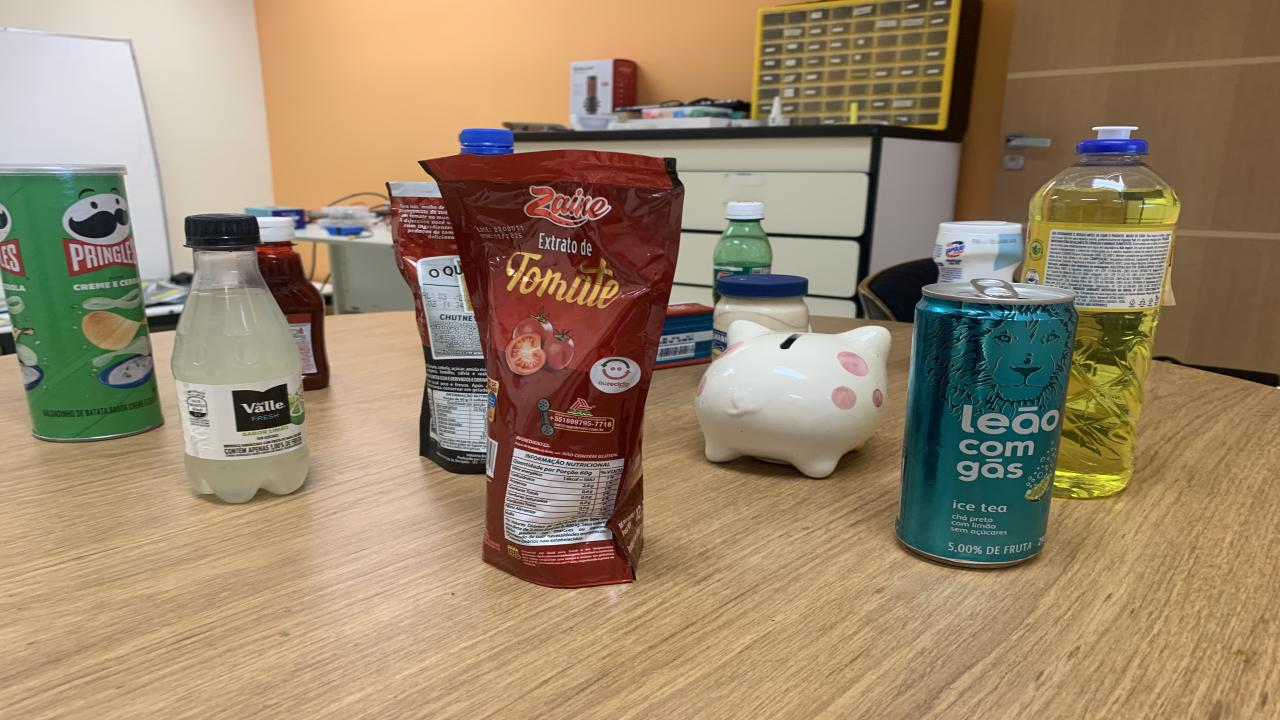Cleaner-Cleanup_Items: (932, 221, 1022, 283)
Detergent-Cleanup_Items: (1022, 128, 1180, 499)
Guarana-Drinks: (712, 219, 772, 304)
Ketchup-Pantry_Items: (258, 218, 330, 390)
Mayonnaise-Pantry_Items: (712, 274, 810, 354)
Pig_Safe-Miscellaneous: (695, 321, 890, 478)
Pringles-Snacks: (0, 165, 162, 442)
Soda-Drinks: (170, 214, 308, 502)
Tea-Drinks: (898, 281, 1078, 568)
Tomato_Sauce-Pantry_Items: (422, 150, 682, 587), (388, 182, 488, 474)
Tuna_Can-Pantry_Items: (655, 304, 712, 368)
